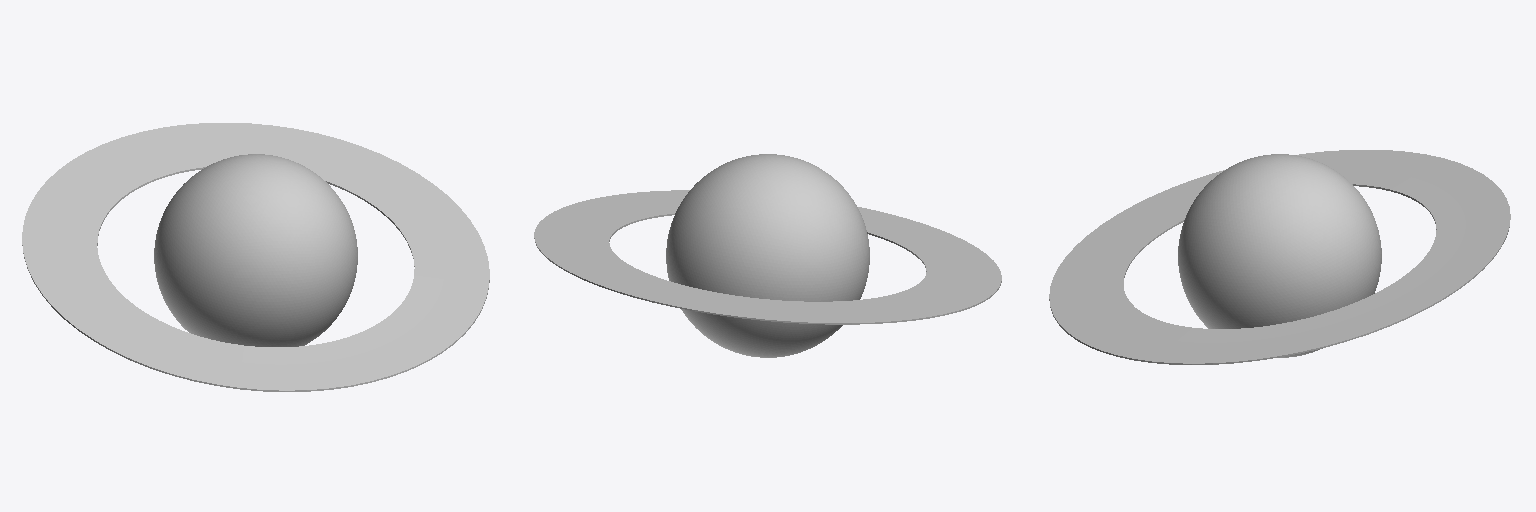
Rendered from Saturno.obj.
The picture shows the model from 3 angles: view 1: azimuth 30°, elevation 25°; view 2: azimuth 150°, elevation 25°; view 3: azimuth 270°, elevation 25°; orthographic projection.
Visible parts, largest first — view 1: Saturn; view 2: Saturn; view 3: Saturn.
Boxes of the visible parts, <box> form: Saturn: <box>22,123,489,391</box>; Saturn: <box>534,154,1001,357</box>; Saturn: <box>1049,150,1510,364</box>.
Size of the model in its own units: 23.61 by 10.24 by 23.19.